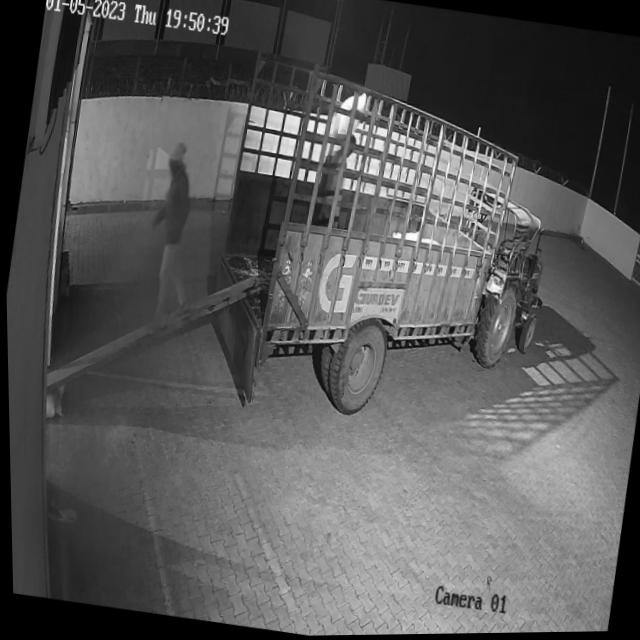sack: (327, 89, 370, 145)
